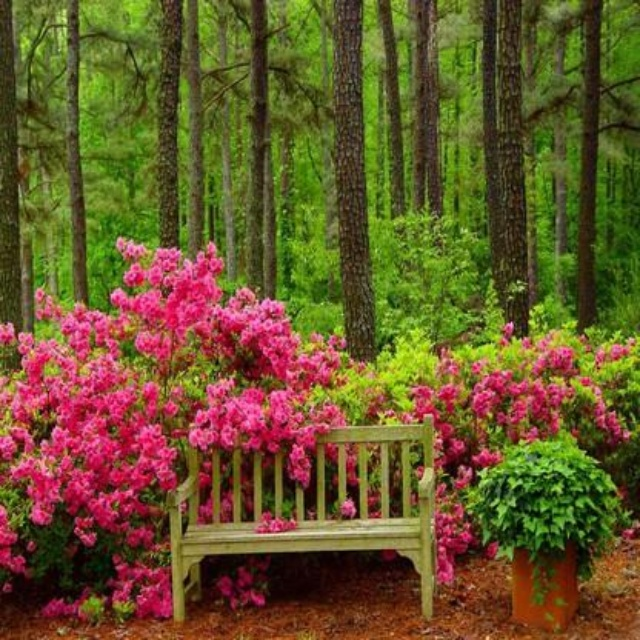obstacle: (148, 411, 458, 634)
